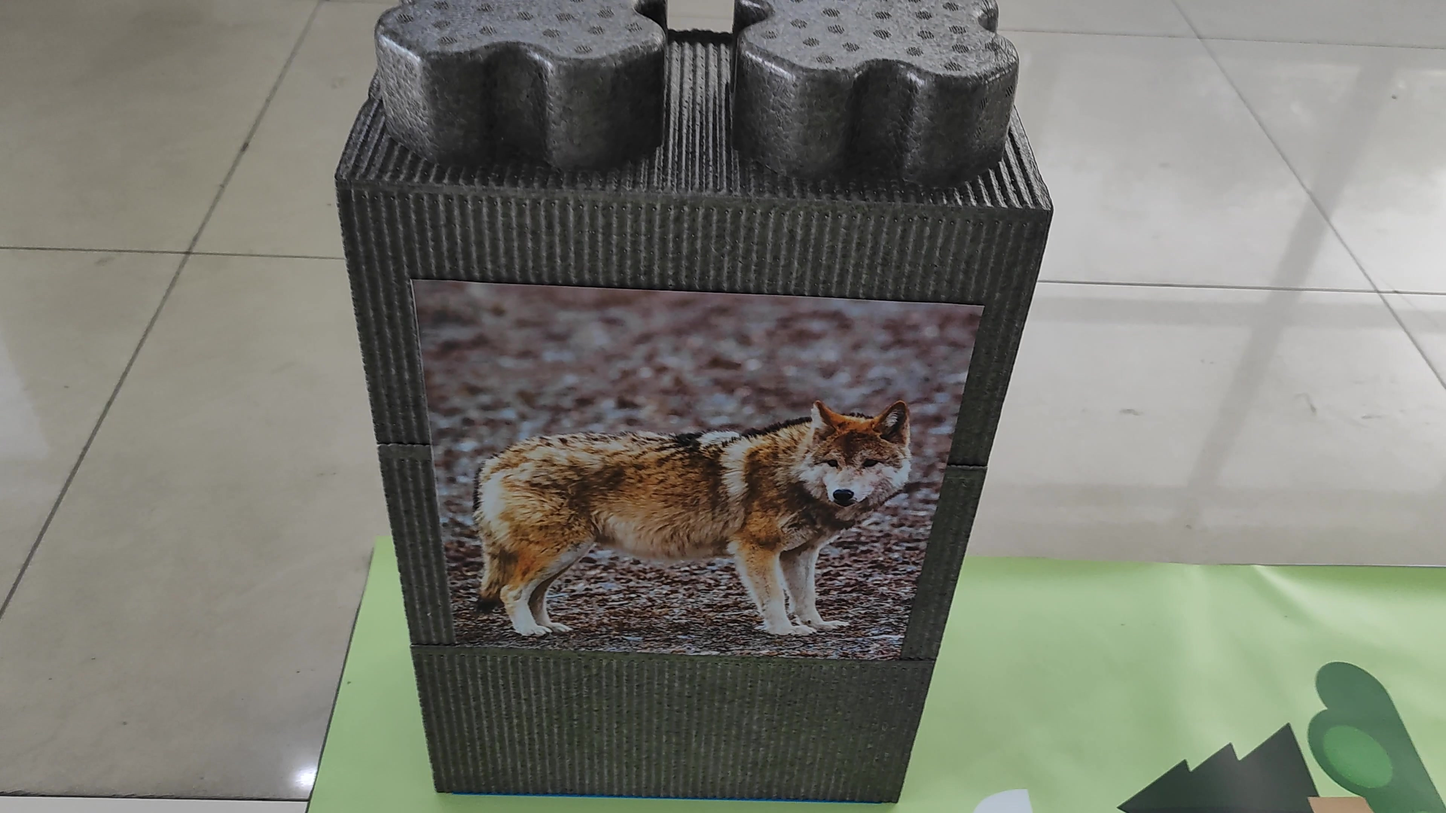wolf: (439, 333, 937, 689)
